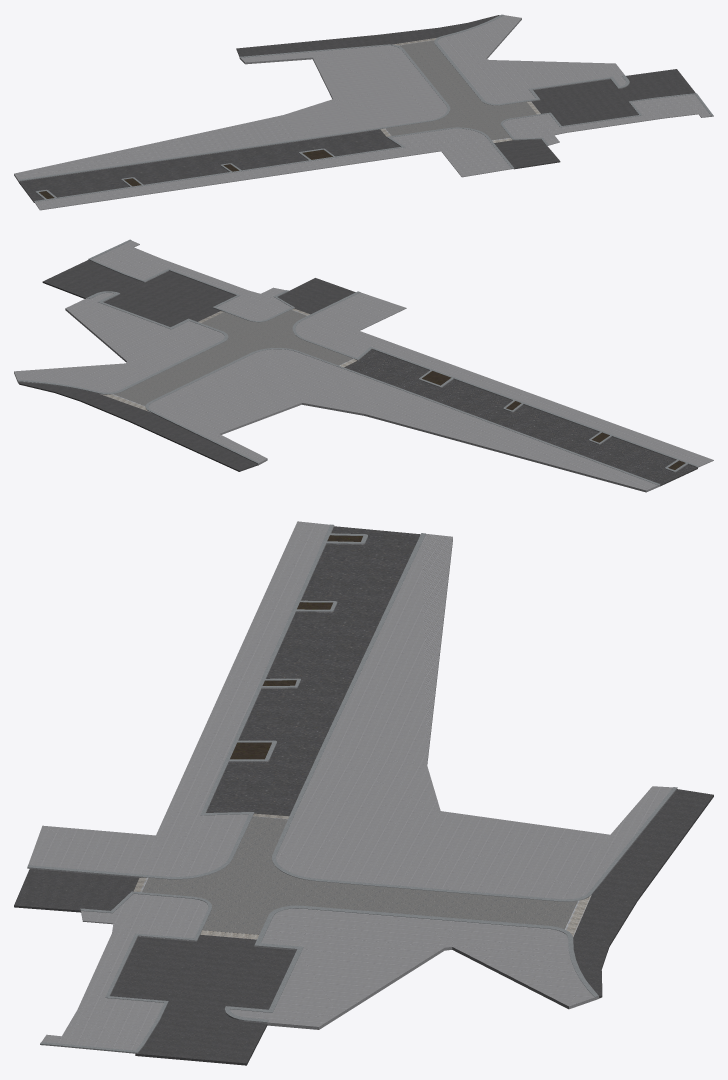
The model's file is kridlovicka5.glb.
3 renders of one model, top to bottom at view 1: azimuth 30°, elevation 25°; view 2: azimuth 150°, elevation 25°; view 3: azimuth 270°, elevation 25°, orthographic. The views are drawn at different scales.
Parts seen in each view (by area): view 1: crossroadPartsJoined; view 2: crossroadPartsJoined; view 3: crossroadPartsJoined.
Part boxes in pixels (left/top/right/bottom): crossroadPartsJoined: left=14, top=14, right=713, bottom=210; crossroadPartsJoined: left=14, top=239, right=713, bottom=492; crossroadPartsJoined: left=14, top=521, right=713, bottom=1065.
Bounding box in the file's own units: 131 × 0.4021 × 71.73.
7 materials, 7 textured.
